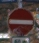No entry: (5, 5, 34, 38)
